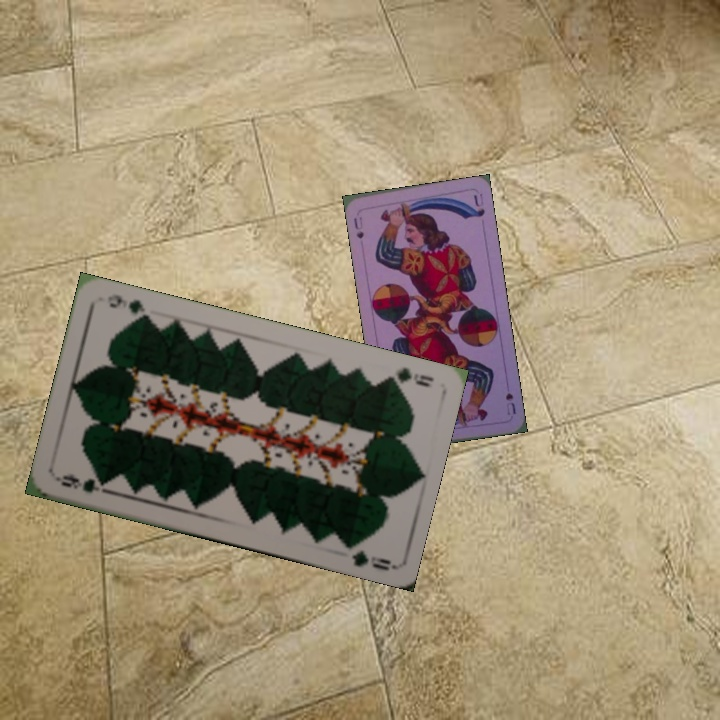G9: (54, 470, 112, 497), (378, 363, 436, 390)
SU: (501, 389, 518, 418), (350, 213, 366, 241)
